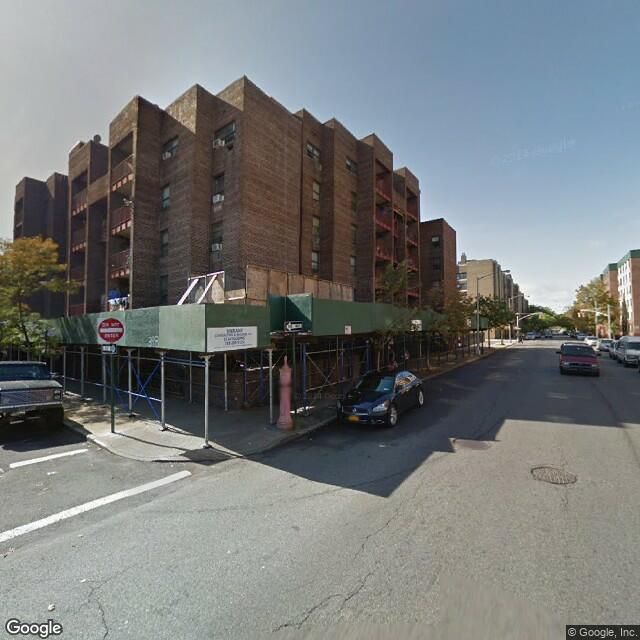litter: (45, 602, 56, 611), (45, 469, 56, 476), (375, 441, 385, 448), (78, 576, 86, 581), (167, 461, 175, 466), (307, 437, 315, 441), (96, 445, 102, 450), (244, 440, 252, 443)
